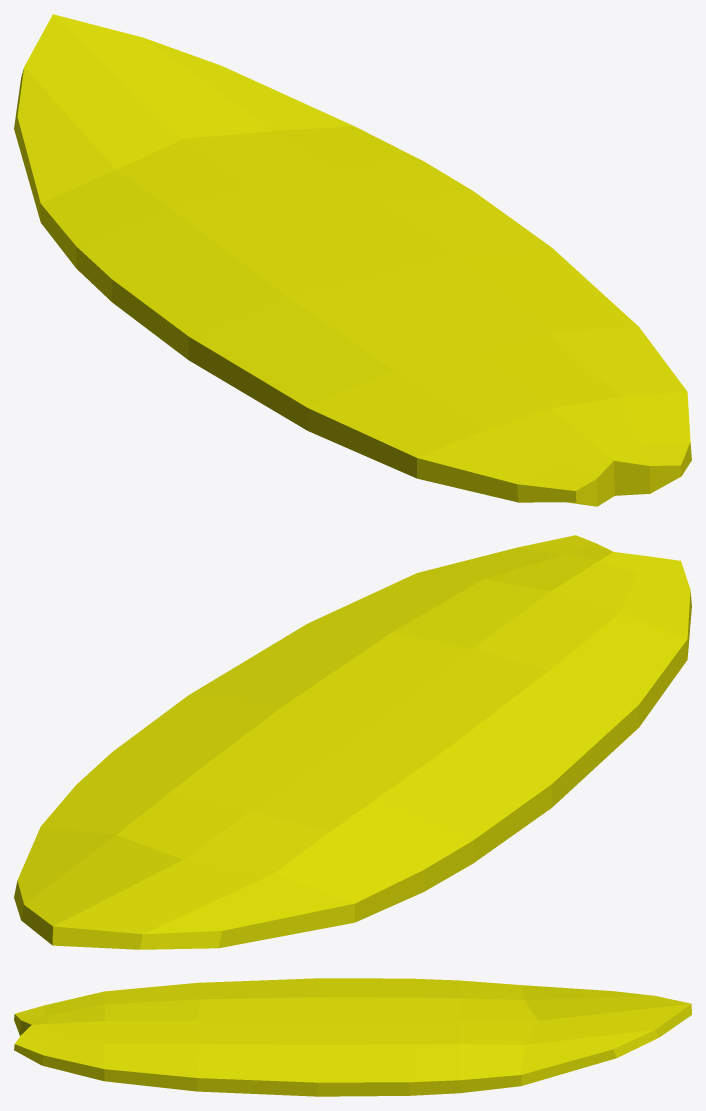
Rendered from Surfboard_1.gltf.
3 views of the same model, one above another, from view 1: azimuth 30°, elevation 25°; view 2: azimuth 150°, elevation 25°; view 3: azimuth 270°, elevation 25° (orthographic). The views are drawn at different scales.
Visible parts, largest first — view 1: Surfboard_1; view 2: Surfboard_1; view 3: Surfboard_1.
Boxes of the visible parts, x1=… form: Surfboard_1: x1=14, y1=14, x2=691, y2=506; Surfboard_1: x1=14, y1=535, x2=691, y2=949; Surfboard_1: x1=14, y1=978, x2=691, y2=1096.
Bounding box in the file's own units: 1.02 × 0.2348 × 2.79.
1 material, 1 textured.
